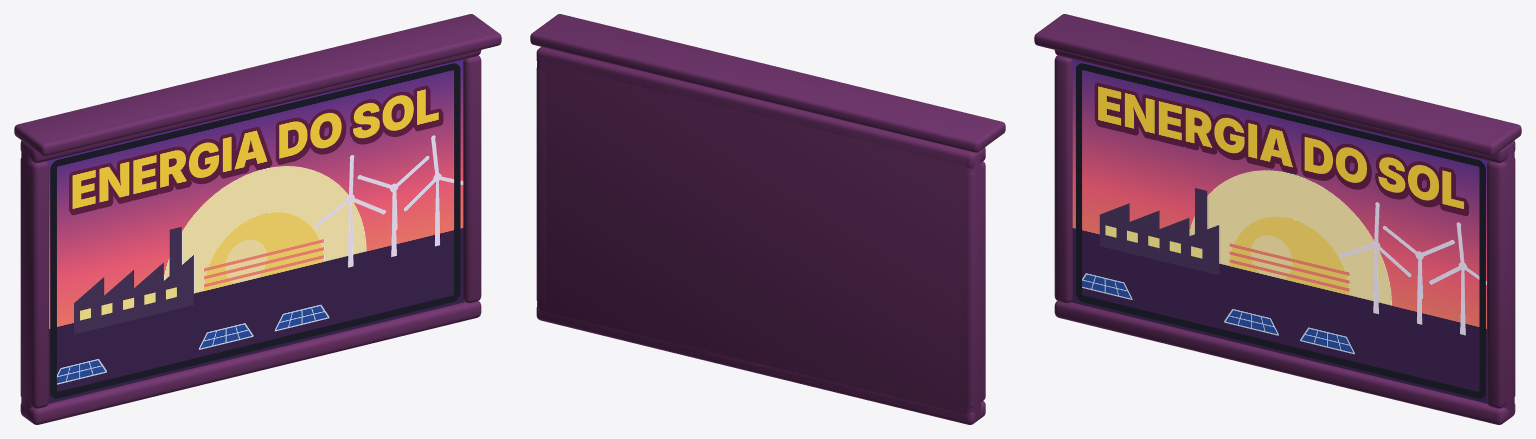
Rendered from painel_energia_sol.glb.
3 views of the same model, side by side, from view 1: azimuth 30°, elevation 25°; view 2: azimuth 150°, elevation 25°; view 3: azimuth 330°, elevation 25° (orthographic). The views are drawn at different scales.
Parts seen in each view (by area): view 1: painel_energia_sol; view 2: painel_energia_sol; view 3: painel_energia_sol.
Boxes of the visible parts, bbox=[...] form: painel_energia_sol: bbox=[14, 14, 501, 424]; painel_energia_sol: bbox=[530, 14, 1005, 424]; painel_energia_sol: bbox=[1034, 14, 1521, 424].
Bounding box in the file's own units: 3.98 × 2.42 × 0.45.
Materials: 3 (2 with a texture image).
